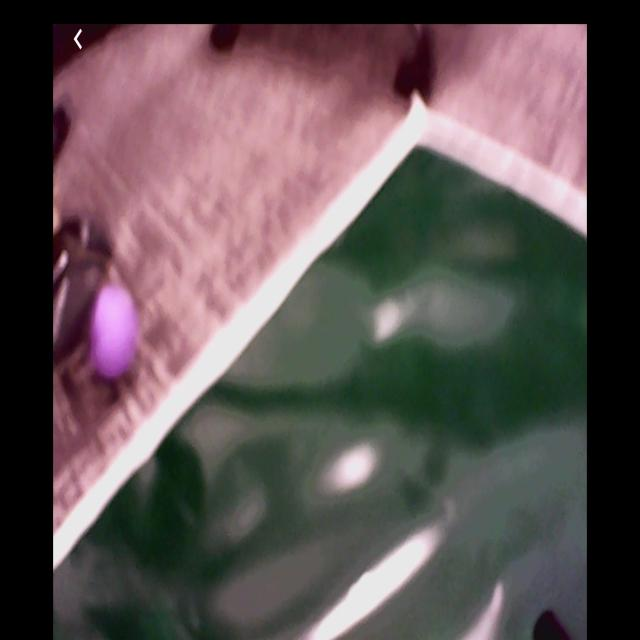ball: (91, 283, 138, 378)
